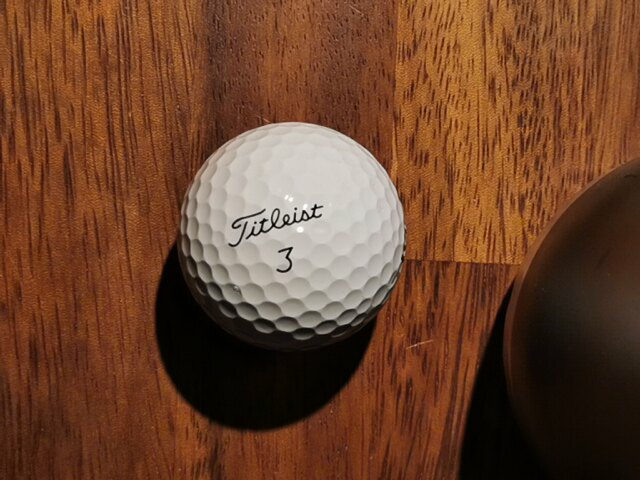Ball: (175, 121, 407, 353)
Titleist: (228, 203, 324, 248)
